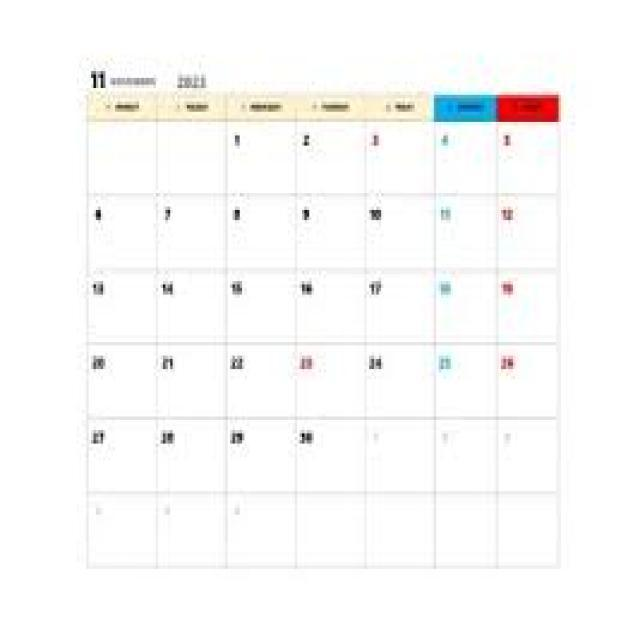calendar: (72, 70, 565, 580)
